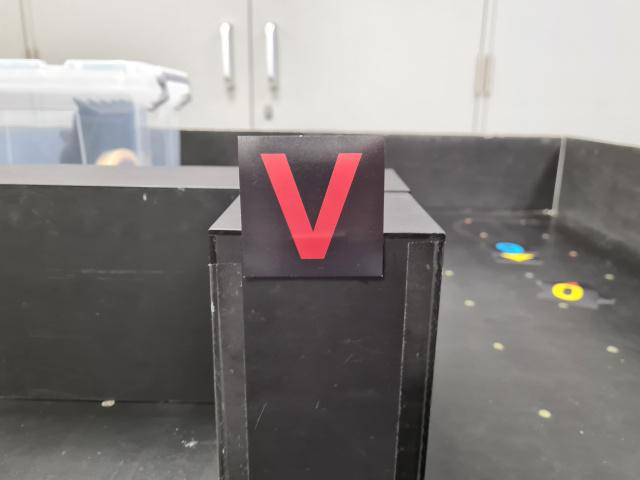v: (237, 131, 383, 279)
